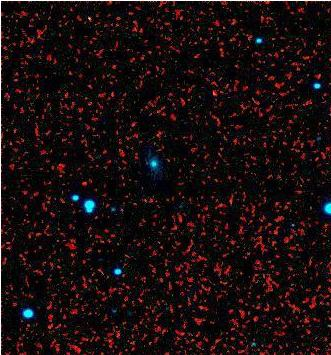star: (197, 80, 227, 110)
